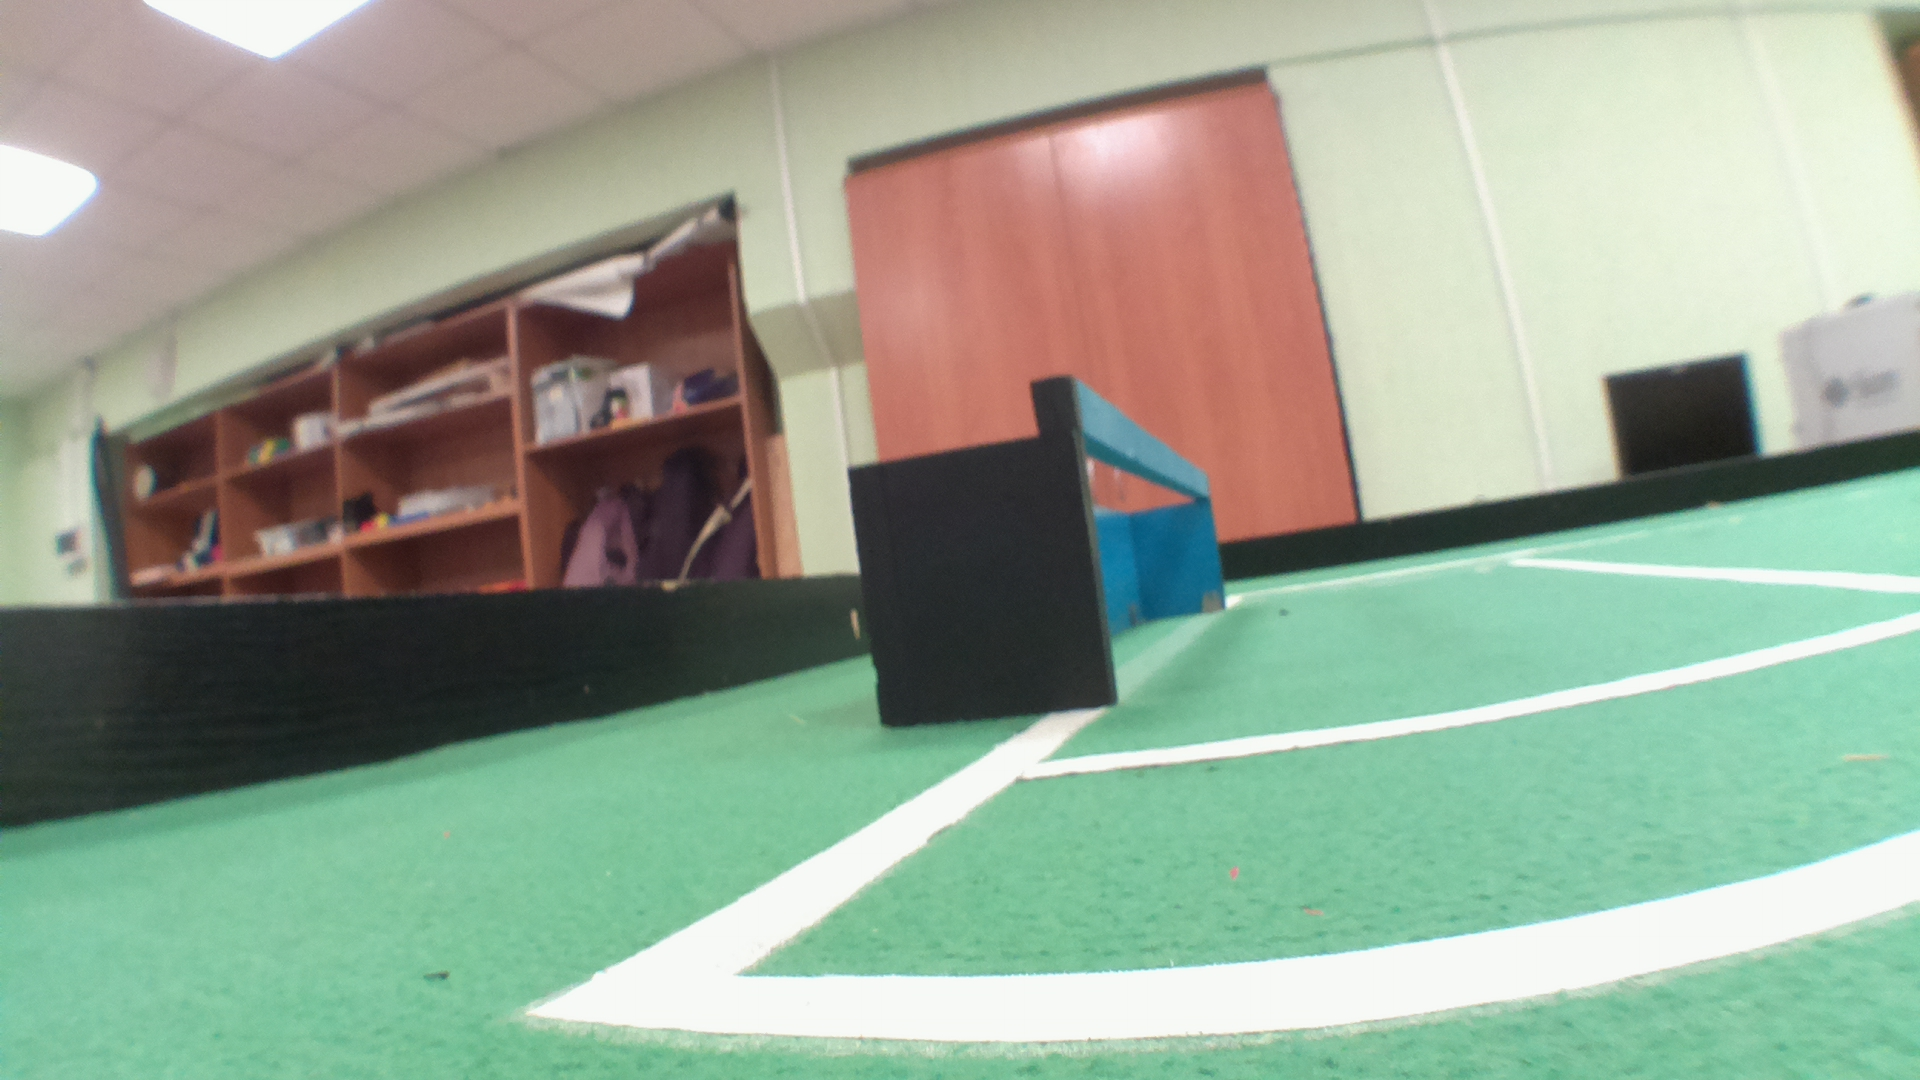BlueGoal: (1077, 381, 1218, 618)
